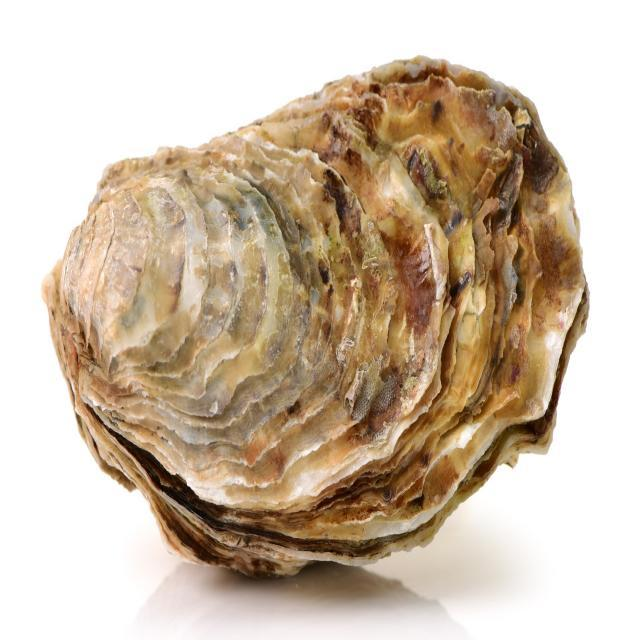Oyster- Indeterminate: (40, 56, 591, 580)
